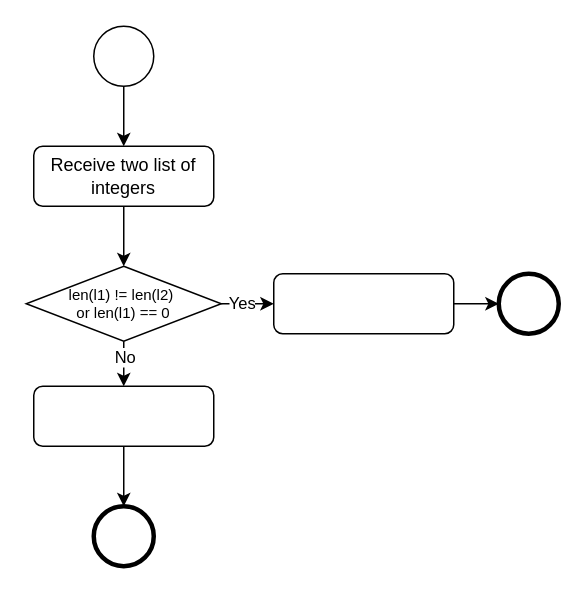
Some shapes in this 587 by 594 pixel diagram are drawn without their labels. Each missing label, with the centre of its shape:
"Compute and return the euclidian distance between l1 and l2" goes at pixel 123 415.
"Return -1" goes at pixel 363 303.
